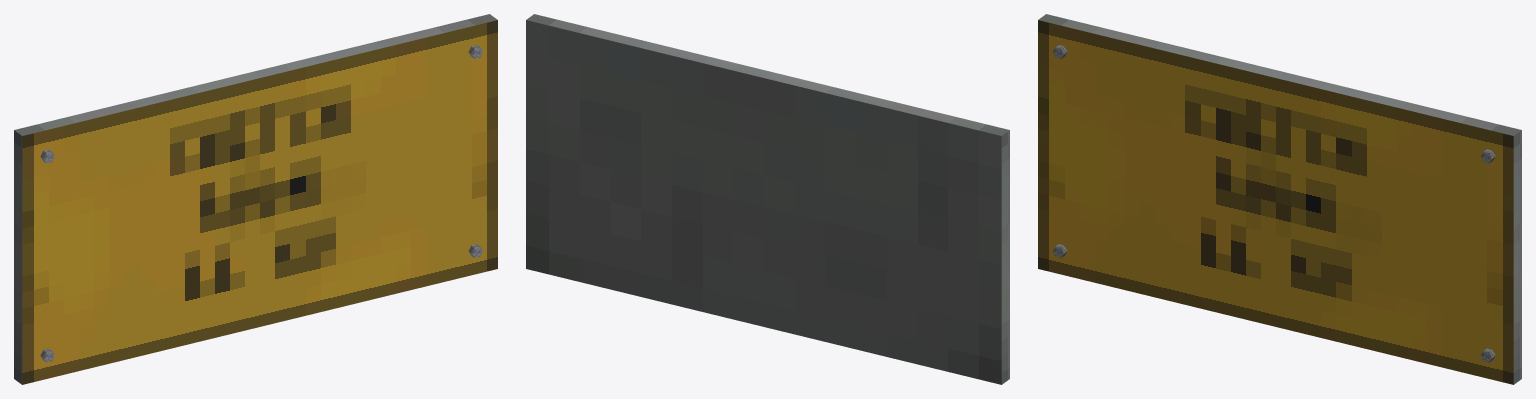
File: sign_switch_room.glb
3 views of the same model, side by side, from view 1: azimuth 30°, elevation 25°; view 2: azimuth 150°, elevation 25°; view 3: azimuth 330°, elevation 25° (orthographic).
Visible parts, largest first — view 1: sign_switch_room; view 2: sign_switch_room; view 3: sign_switch_room.
Part boxes in pixels (bbox=[...]): sign_switch_room: bbox=[14, 14, 497, 384]; sign_switch_room: bbox=[526, 14, 1009, 384]; sign_switch_room: bbox=[1038, 14, 1521, 384].
Size of the model in its own units: 0.5 by 0.25 by 0.021.
Materials: 1 (1 with a texture image).
